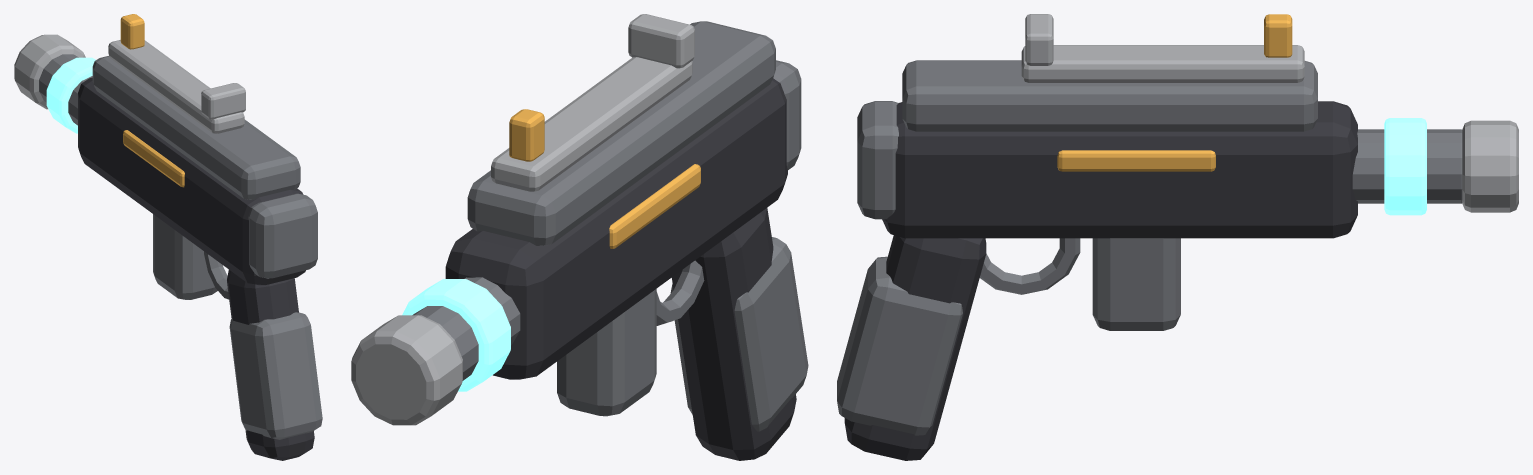
Rendered from WPN_Gun_A_v1.fbx.
3 views of the same model, side by side, from view 1: azimuth 30°, elevation 25°; view 2: azimuth 150°, elevation 25°; view 3: azimuth 270°, elevation 25° (orthographic). The views are drawn at different scales.
Visible parts, largest first — view 1: GEO_Gun_A; view 2: GEO_Gun_A; view 3: GEO_Gun_A.
Boxes of the visible parts, x1=… form: GEO_Gun_A: x1=14, y1=14, x2=322, y2=460; GEO_Gun_A: x1=351, y1=14, x2=808, y2=460; GEO_Gun_A: x1=837, y1=14, x2=1518, y2=460.
Size of the model in its own units: 6 by 27.27 by 38.54.
